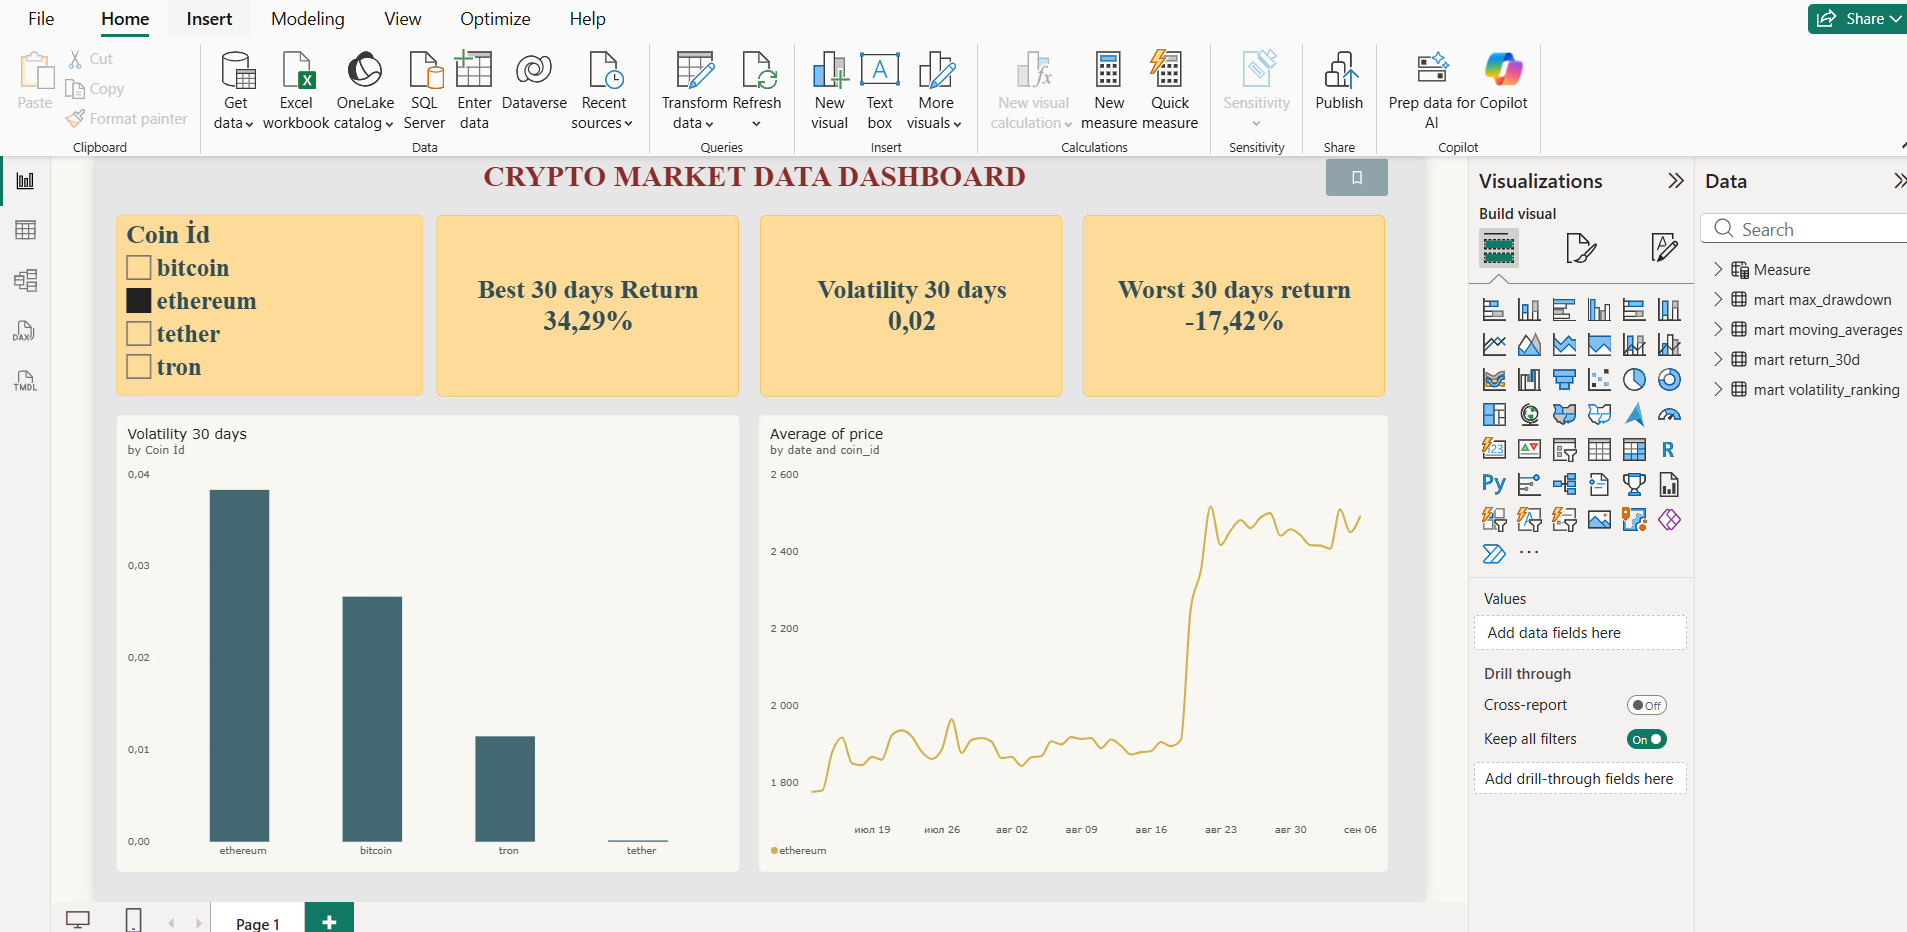

The dashboard page shown, as its layout file describes it:
{"tool":"powerbi","page":{"name":"Page 1","canvas":[1920,1080],"ordinal":0},"visuals":[{"type":"barChart","title":"Moving Average 30 days","fields":{"Category":["mart max_drawdown.coin_id"],"Y":["Sum(mart max_drawdown.price)"]},"box":[29.2,360.8,902.1,676.1],"z":0},{"type":"lineChart","title":"Moving Averages by Month","fields":{"Category":["mart moving_averages.date.Variation.Date Hierarchy.Month"],"Y":["Measure.MA_30d","Measure.Volatility_30d","Measure.MA_7d"]},"box":[960.4,360.8,907.5,676.1],"z":1000},{"type":"slicer","fields":{"Values":["mart moving_averages.coin_id"]},"box":[29.2,76.5,444.6,264.2],"z":2000},{"type":"cardVisual","fields":{"Data":["Measure.Best_30d_return"]},"box":[1426.9,76.5,444.6,264.2],"z":3000},{"type":"actionButton","box":[1781.5,3.8,90.1,54.4],"z":4000},{"type":"textbox","box":[473.2,3.7,970.2,54.8],"z":5000},{"type":"cardVisual","fields":{"Data":["Measure.Volatility_30d"]},"box":[960.4,76.5,444.6,264.2],"z":6000},{"type":"cardVisual","fields":{"Data":["Measure.Worst_30d_return"]},"box":[486.6,76.5,444.6,264.2],"z":7000}]}

Visuals, with their boxes on the page's 1920x1080 design canvas (x1, y1, x2, y2). These are canvas units, not pixel positions in the 1907x932 screenshot, which may show the page scaled, cropped or inside an application window:
"Moving Average 30 days" barChart: 29 361 931 1037
"Moving Averages by Month" lineChart: 960 361 1868 1037
slicer - mart moving_averages.coin_id: 29 76 474 341
cardVisual - Measure.Best_30d_return: 1427 76 1872 341
actionButton: 1782 4 1872 58
textbox: 473 4 1443 58
cardVisual - Measure.Volatility_30d: 960 76 1405 341
cardVisual - Measure.Worst_30d_return: 487 76 931 341
